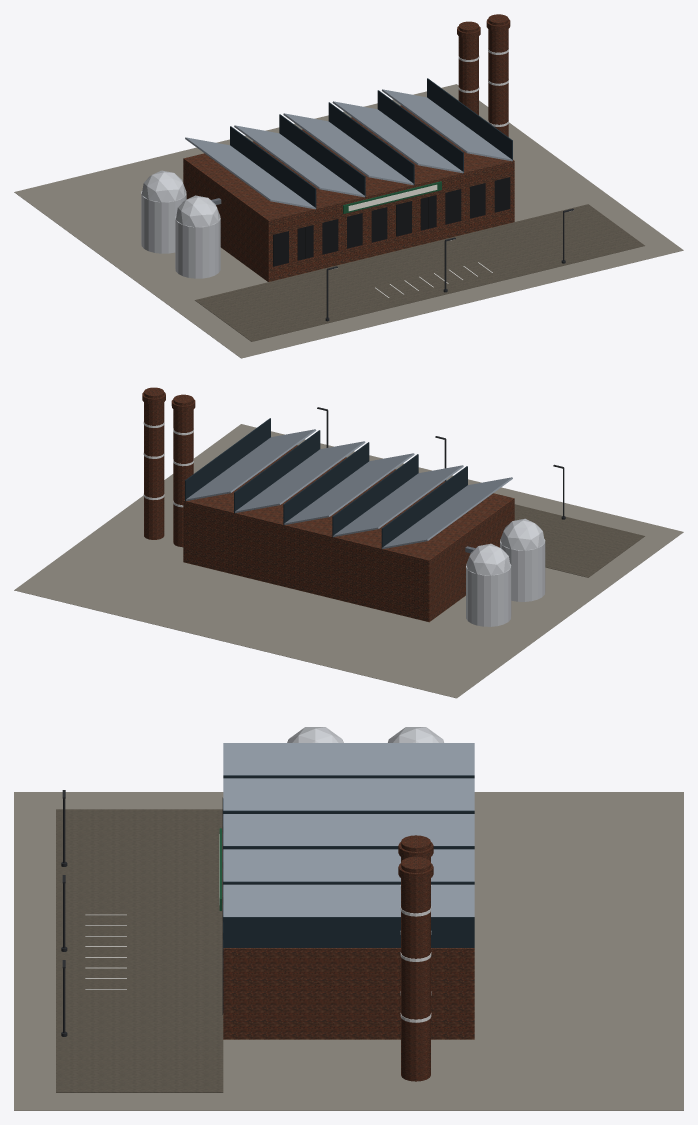
The model's file is OT_Factory_A.glb.
The picture shows the model from 3 angles, top to bottom: view 1: azimuth 30°, elevation 25°; view 2: azimuth 150°, elevation 25°; view 3: azimuth 270°, elevation 25°; orthographic projection. The views are drawn at different scales.
Parts seen in each view (by area): view 1: OT_Factory_A_Gravel__8f8a80, OT_Factory_A_Pavement, OT_Factory_A_Brick, OT_Factory_A_FacMetal__8e98a3, OT_Factory_A_Glass__22303a, OT_Factory_A_Tank__c9ccd1, OT_Factory_A_Frame__18191c, OT_Factory_A_Brick.001, OT_Factory_A_FacGreen__1f5a3a, OT_Factory_A_SignFace__f2efe6; view 2: OT_Factory_A_Gravel__8f8a80, OT_Factory_A_Brick, OT_Factory_A_FacMetal__8e98a3, OT_Factory_A_Glass__22303a, OT_Factory_A_Tank__c9ccd1, OT_Factory_A_Brick.001, OT_Factory_A_Pavement; view 3: OT_Factory_A_Gravel__8f8a80, OT_Factory_A_Pavement, OT_Factory_A_FacMetal__8e98a3, OT_Factory_A_Brick, OT_Factory_A_Glass__22303a, OT_Factory_A_Brick.001, OT_Factory_A_Tank__c9ccd1, OT_Factory_A_PoleDark__2a2c30.
Part boxes in pixels (left/top/right/bottom): OT_Factory_A_Gravel__8f8a80: left=14, top=84, right=683, bottom=358; OT_Factory_A_Pavement: left=195, top=204, right=644, bottom=341; OT_Factory_A_Brick: left=183, top=105, right=514, bottom=281; OT_Factory_A_FacMetal__8e98a3: left=185, top=89, right=512, bottom=209; OT_Factory_A_Glass__22303a: left=230, top=78, right=512, bottom=208; OT_Factory_A_Tank__c9ccd1: left=141, top=170, right=220, bottom=278; OT_Factory_A_Frame__18191c: left=273, top=177, right=510, bottom=266; OT_Factory_A_Brick.001: left=457, top=14, right=510, bottom=136; OT_Factory_A_FacGreen__1f5a3a: left=343, top=181, right=441, bottom=213; OT_Factory_A_SignFace__f2efe6: left=348, top=184, right=437, bottom=211; OT_Factory_A_Gravel__8f8a80: left=14, top=424, right=683, bottom=698; OT_Factory_A_Brick: left=183, top=445, right=514, bottom=622; OT_Factory_A_FacMetal__8e98a3: left=186, top=429, right=512, bottom=549; OT_Factory_A_Glass__22303a: left=185, top=418, right=467, bottom=548; OT_Factory_A_Tank__c9ccd1: left=466, top=518, right=545, bottom=626; OT_Factory_A_Brick.001: left=142, top=387, right=195, bottom=547; OT_Factory_A_Pavement: left=514, top=504, right=644, bottom=577; OT_Factory_A_Gravel__8f8a80: left=14, top=792, right=683, bottom=1110; OT_Factory_A_Pavement: left=56, top=809, right=223, bottom=1092; OT_Factory_A_FacMetal__8e98a3: left=223, top=743, right=474, bottom=916; OT_Factory_A_Brick: left=223, top=948, right=474, bottom=1039; OT_Factory_A_Glass__22303a: left=223, top=775, right=474, bottom=1013; OT_Factory_A_Brick.001: left=398, top=835, right=433, bottom=1081; OT_Factory_A_Tank__c9ccd1: left=287, top=727, right=443, bottom=742; OT_Factory_A_PoleDark__2a2c30: left=61, top=790, right=67, bottom=1036.
Bounding box in the file's own units: 90 × 28 × 80.
15 materials, 3 textured.
